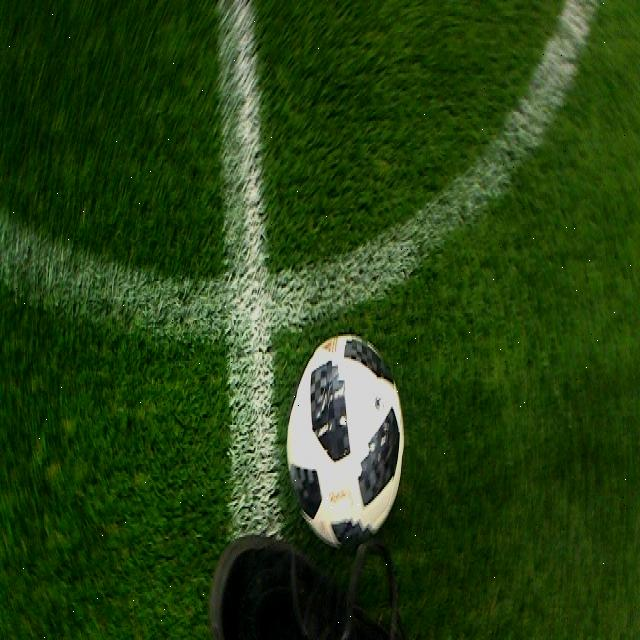ball: (288, 331, 406, 551)
